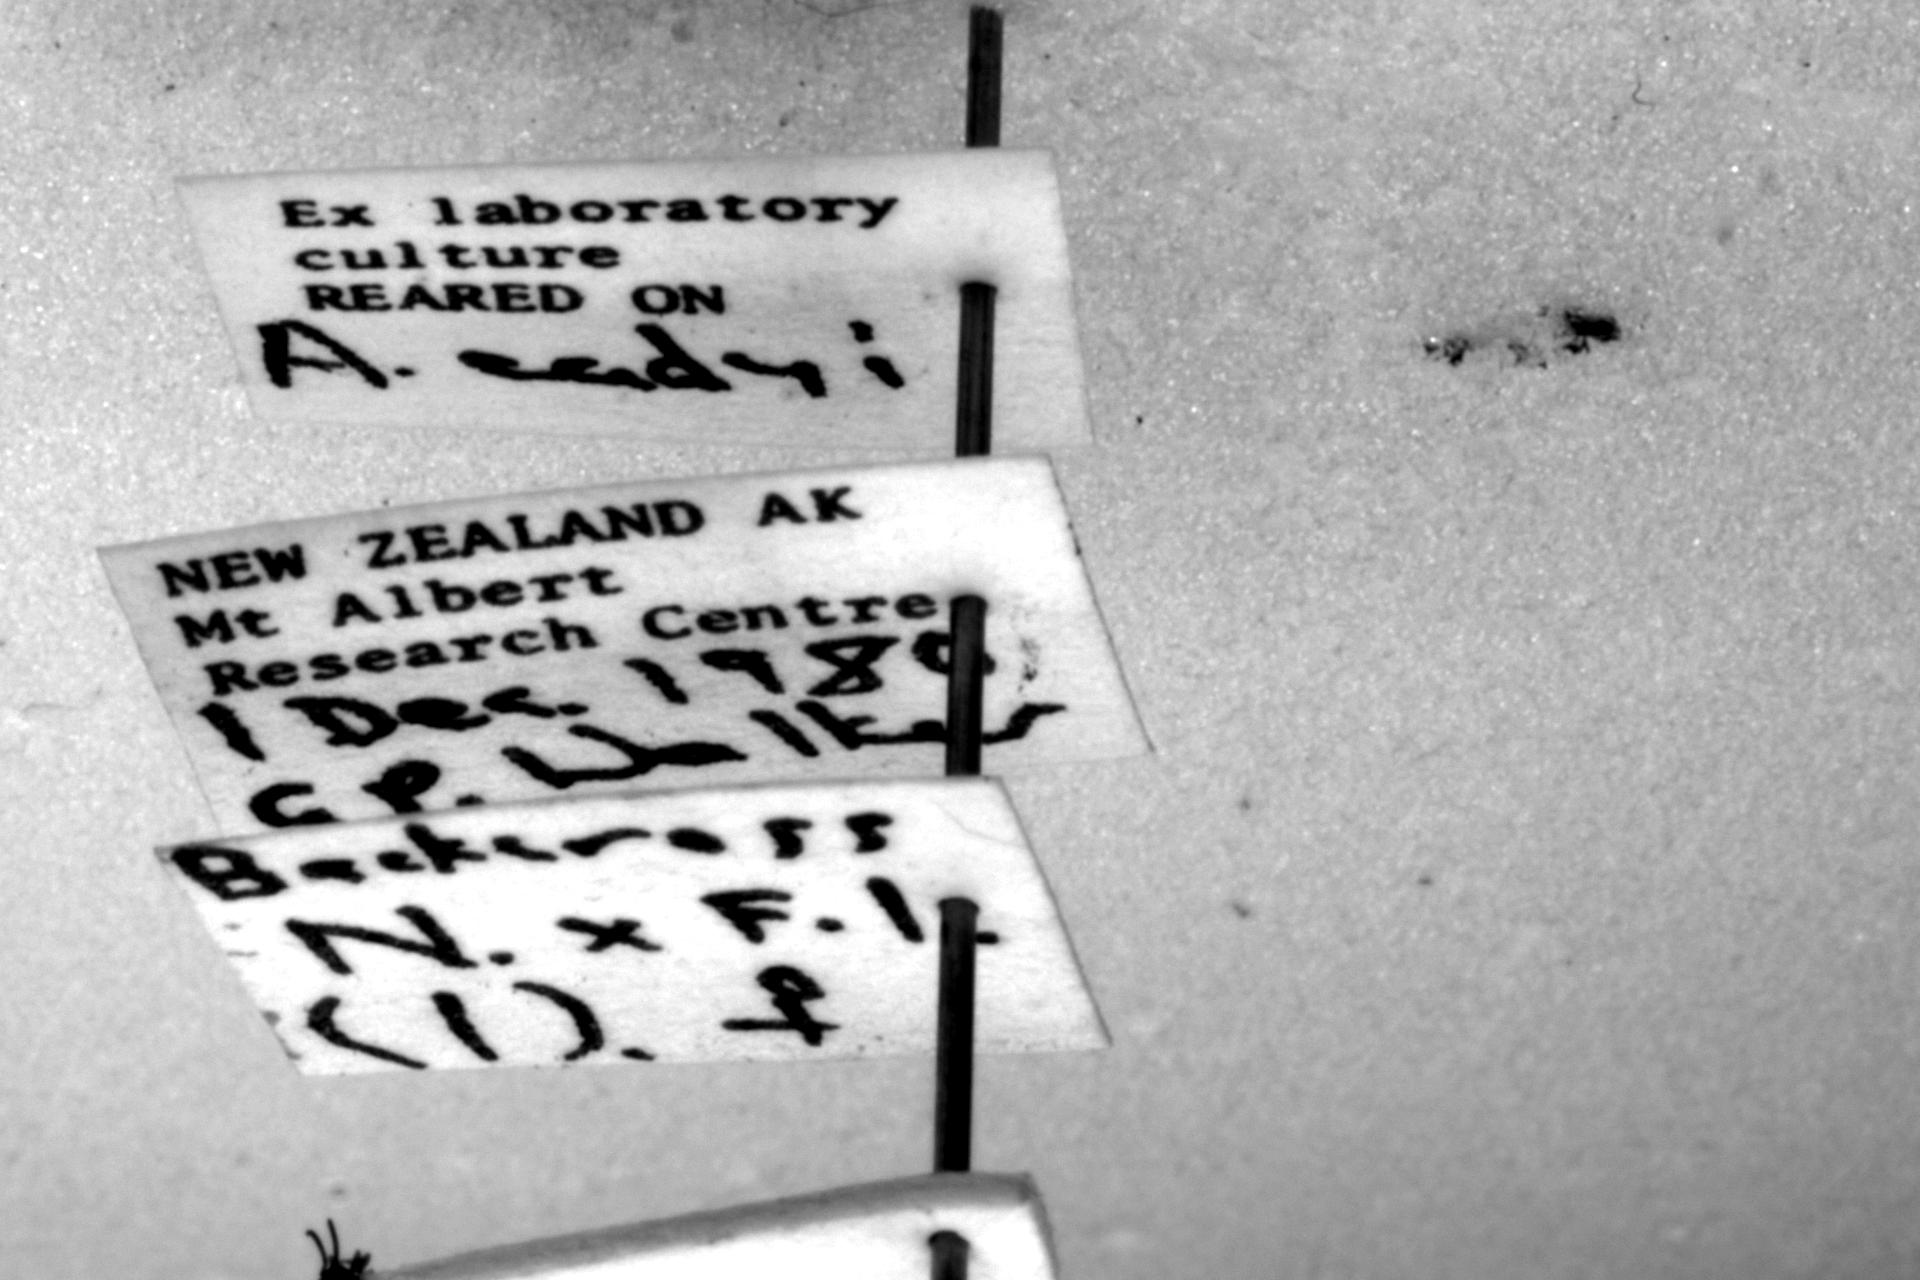hand_label: (158, 780, 1110, 1076)
mixed_label: (101, 458, 1148, 836), (180, 146, 1091, 450)
